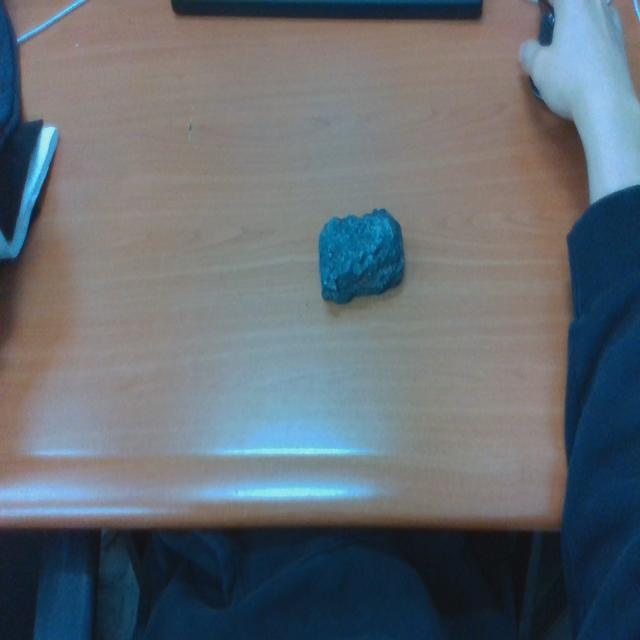stone: (318, 208, 405, 306)
